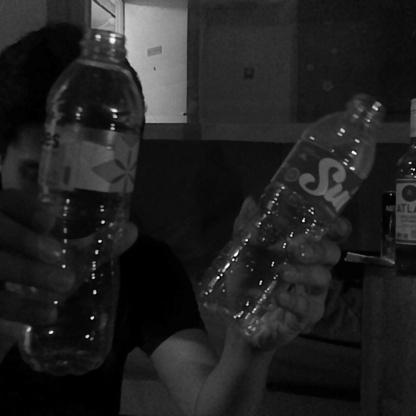plastic_bottles: (209, 86, 387, 332), (29, 31, 138, 367)
